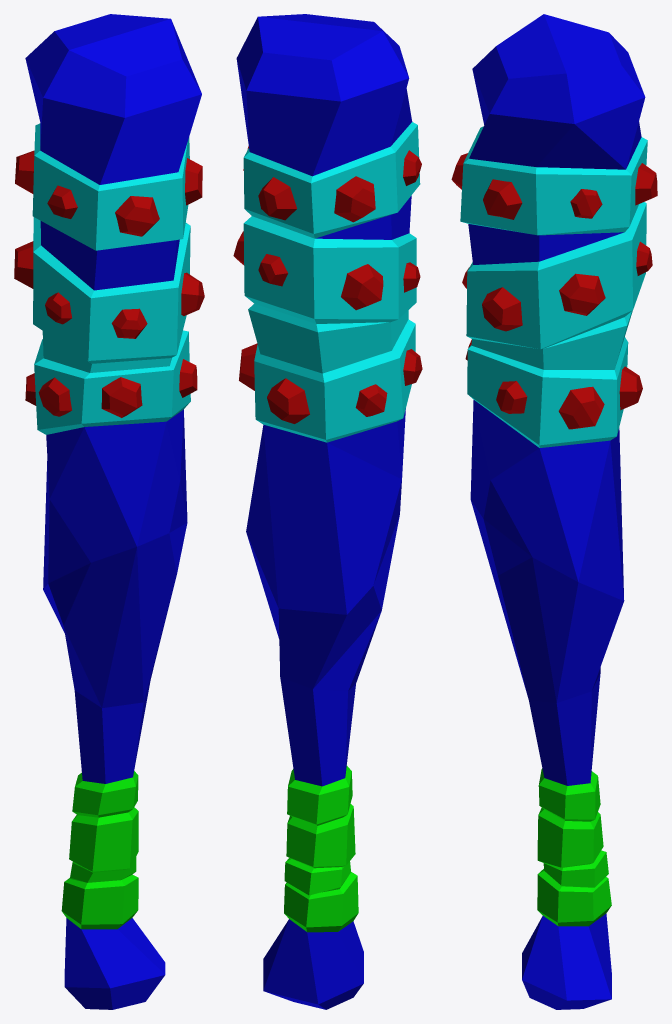
Rendered from Mace_Common_Goblin.fbx.
3 views of the same model, side by side, from view 1: azimuth 30°, elevation 25°; view 2: azimuth 150°, elevation 25°; view 3: azimuth 270°, elevation 25° (orthographic).
Parts seen in each view (by area): view 1: SM_Wep_Goblin_Club_01; view 2: SM_Wep_Goblin_Club_01; view 3: SM_Wep_Goblin_Club_01.
Boxes of the visible parts, x1,y1,x2,y2 form: SM_Wep_Goblin_Club_01: (14,14,204,1009); SM_Wep_Goblin_Club_01: (233,14,422,1009); SM_Wep_Goblin_Club_01: (451,14,657,1009).
Bounding box in the file's own units: 0.1773 × 1.02 × 0.1976.
